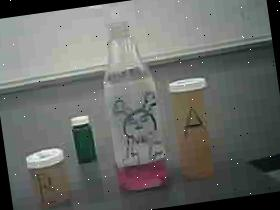Bottle A: (166, 75, 222, 182)
Bottle B: (20, 145, 75, 210)
Bottle C: (64, 112, 101, 171)
hazard: (81, 0, 181, 200)
